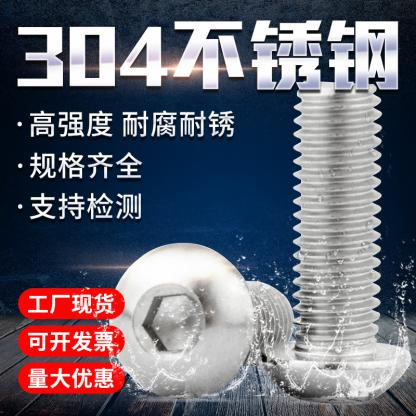FOD: (257, 78, 413, 404), (105, 240, 295, 400)
